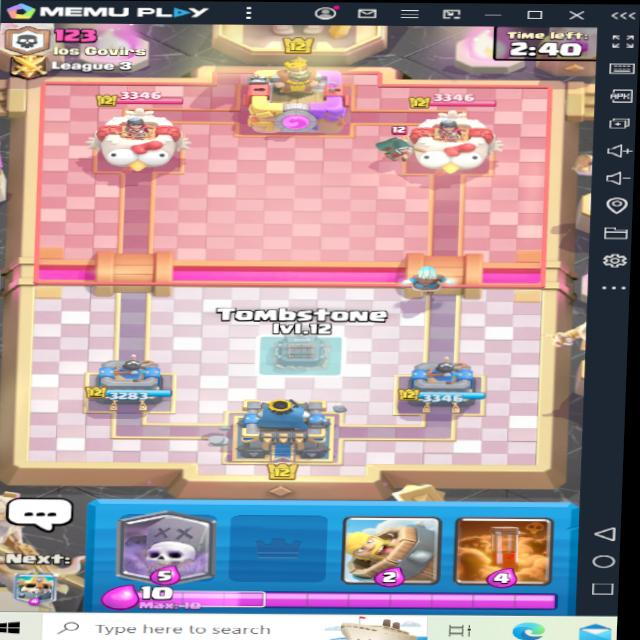bandit: (359, 122, 424, 167)
